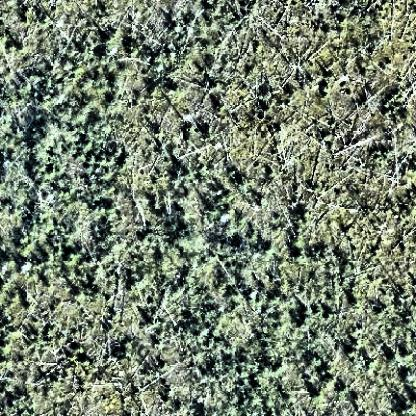tree-top: (27, 158, 58, 188), (31, 122, 56, 149), (291, 203, 313, 226), (171, 161, 190, 186), (203, 197, 223, 219), (176, 222, 194, 243), (18, 257, 35, 278), (101, 44, 117, 61), (211, 101, 229, 116), (64, 248, 80, 264), (308, 388, 324, 403), (291, 246, 306, 261), (385, 351, 399, 367)
